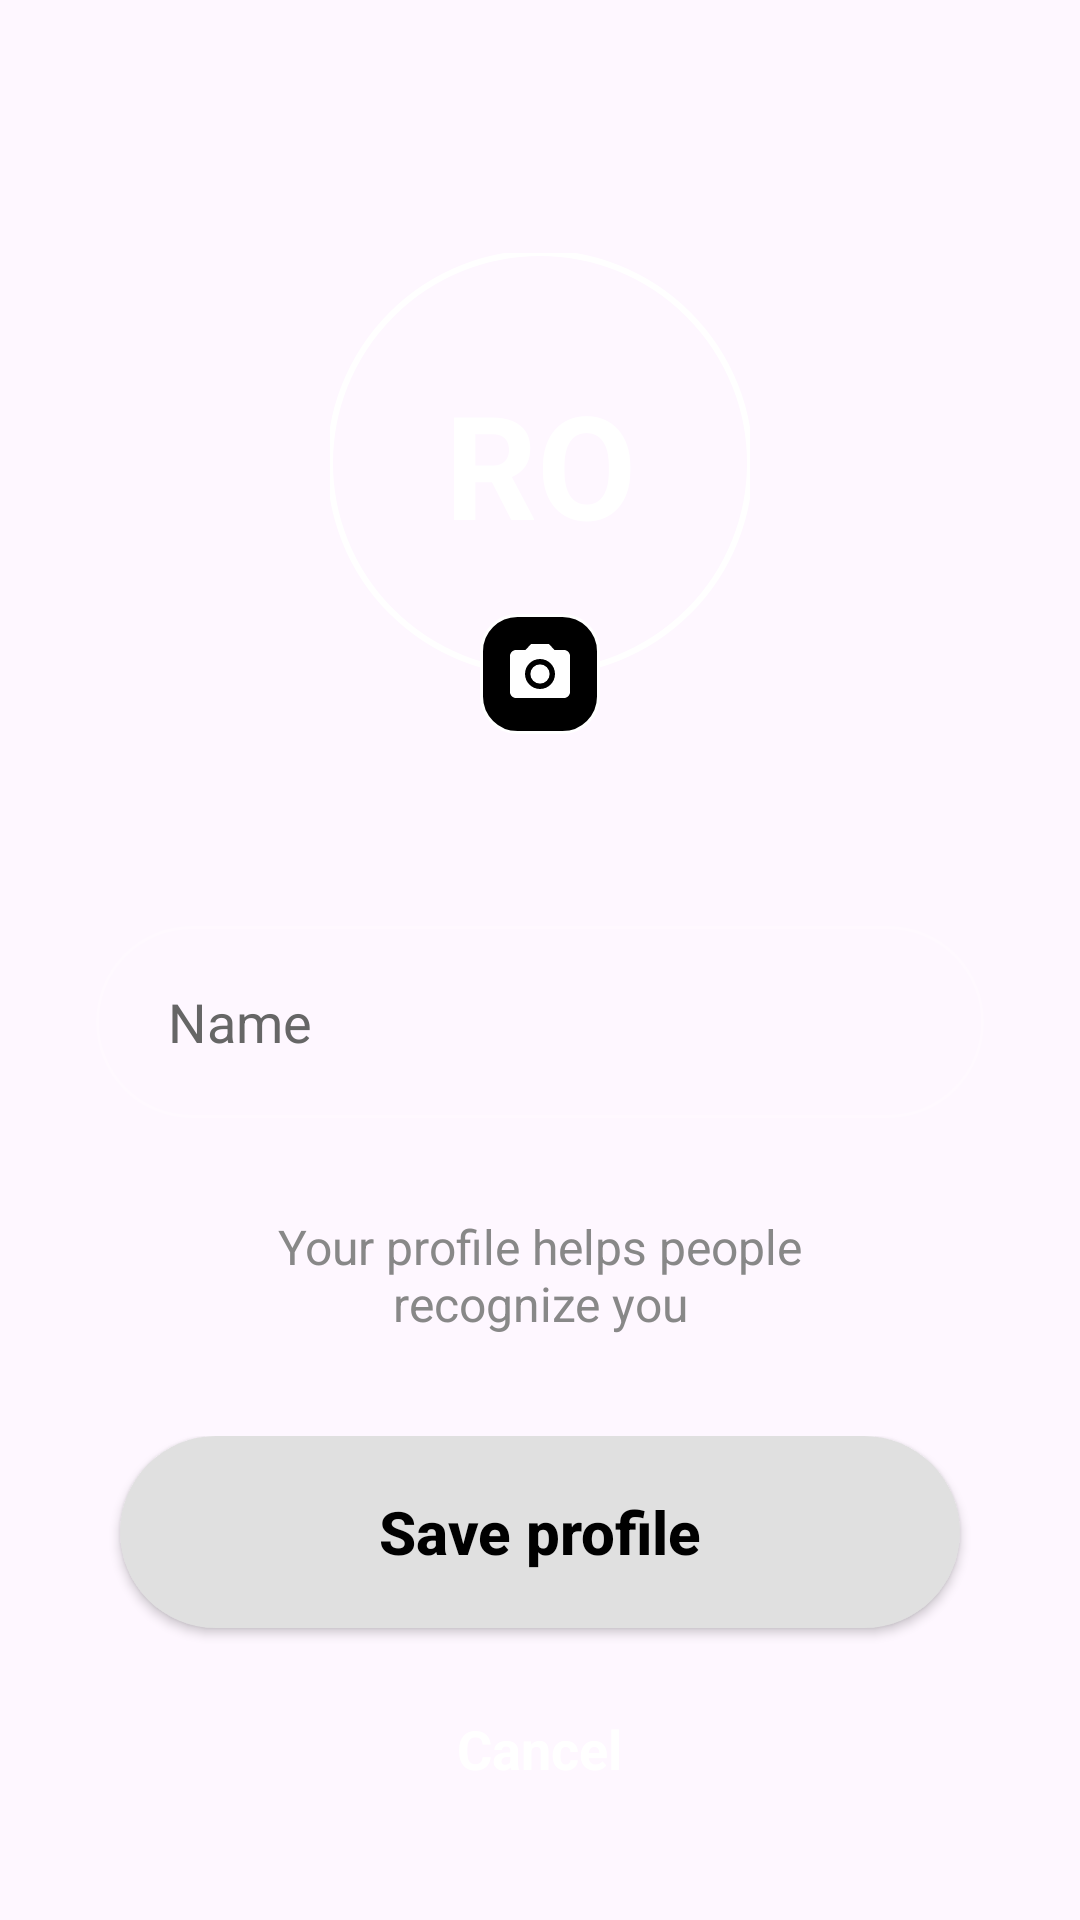

Where to tap for icons on this 1080 × 1920 app screen, as [x,y]:
camera: [540,674]
